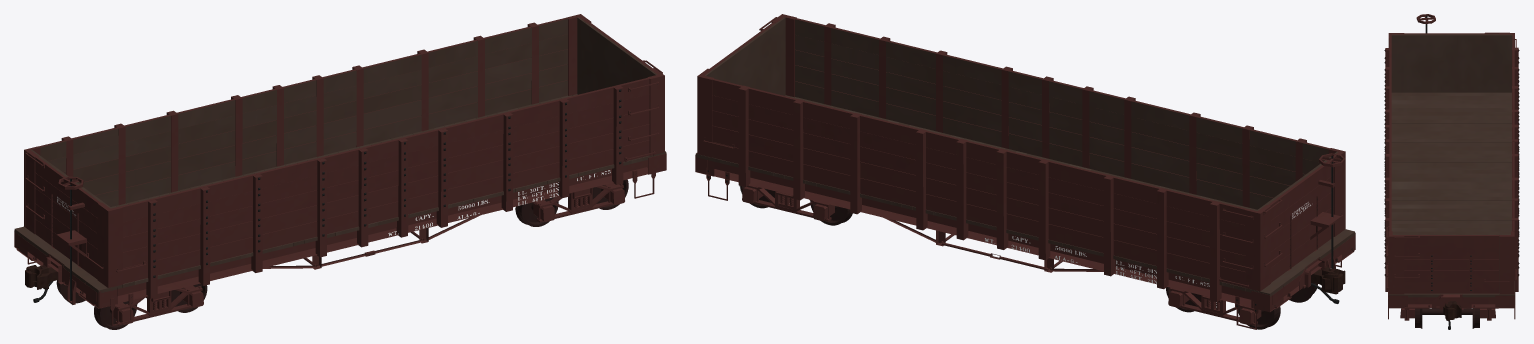
Rendered from drgw_1000class_gondola.obj.
3 views of the same model, side by side, from view 1: azimuth 30°, elevation 25°; view 2: azimuth 150°, elevation 25°; view 3: azimuth 270°, elevation 25° (orthographic). The views are drawn at different scales.
Visible parts, largest first — view 1: SHELL_Cube.334, Floor.013_Cube.021, Cube.010_Cube.297, FRAME_Cube.060, FRAME.001_Cube.002, Cube.050_Cube.377, BOGEY_REAR_BOGEY_REAR_Cube.016, BOGEY_FRONT_BOGEY_FRONT_Cube.003, Cube.028_Cube.033, Bolts.005_Cube.353, BOGEY_FRONT_WHEEL_1_BOGEY_FRONT_WHEEL_1_Cube.005, Coupler_Front.001_Cube.101 (+2 smaller); view 2: SHELL_Cube.334, Floor.013_Cube.021, Cube.010_Cube.297, FRAME_Cube.060, FRAME.001_Cube.002, Cube.050_Cube.377, BOGEY_REAR_BOGEY_REAR_Cube.016, BOGEY_FRONT_BOGEY_FRONT_Cube.003, Cube.028_Cube.033, BOGEY_FRONT_WHEEL_1_BOGEY_FRONT_WHEEL_1_Cube.005, Coupler_Front.001_Cube.101, lettering.000_FRAME.002_Cube.008; view 3: Floor.013_Cube.021, SHELL_Cube.334, Cube.010_Cube.297, Cube.050_Cube.377, Bolts.005_Cube.353, FRAME_Cube.060, Cube.028_Cube.033, BOGEY_REAR_WHEEL_2_BOGEY_REAR_WHEEL_2_Cube.022, FRAME.001_Cube.002, BOGEY_REAR_BOGEY_REAR_Cube.016, Coupler_Front_Cube.000, Cube.189_Cube.215.
Part boxes in pixels (bbox=[...]): SHELL_Cube.334: bbox=[35, 18, 652, 298]; Floor.013_Cube.021: bbox=[14, 17, 666, 293]; Cube.010_Cube.297: bbox=[24, 14, 664, 287]; FRAME_Cube.060: bbox=[15, 167, 647, 306]; FRAME.001_Cube.002: bbox=[17, 160, 647, 301]; Cube.050_Cube.377: bbox=[16, 60, 662, 325]; BOGEY_REAR_BOGEY_REAR_Cube.016: bbox=[533, 183, 624, 222]; BOGEY_FRONT_BOGEY_FRONT_Cube.003: bbox=[113, 285, 203, 325]; Cube.028_Cube.033: bbox=[14, 153, 666, 308]; Bolts.005_Cube.353: bbox=[52, 89, 621, 277]; BOGEY_FRONT_WHEEL_1_BOGEY_FRONT_WHEEL_1_Cube.005: bbox=[56, 280, 137, 329]; Coupler_Front.001_Cube.101: bbox=[25, 265, 58, 289]; SHELL_Cube.334: bbox=[709, 18, 1333, 302]; Floor.013_Cube.021: bbox=[695, 17, 1354, 296]; Cube.010_Cube.297: bbox=[697, 14, 1345, 291]; FRAME_Cube.060: bbox=[697, 160, 1355, 311]; FRAME.001_Cube.002: bbox=[714, 162, 1352, 304]; Cube.050_Cube.377: bbox=[703, 17, 1354, 329]; BOGEY_REAR_BOGEY_REAR_Cube.016: bbox=[742, 185, 834, 221]; BOGEY_FRONT_BOGEY_FRONT_Cube.003: bbox=[1168, 287, 1261, 325]; Cube.028_Cube.033: bbox=[695, 155, 1355, 312]; BOGEY_FRONT_WHEEL_1_BOGEY_FRONT_WHEEL_1_Cube.005: bbox=[1238, 282, 1317, 329]; Coupler_Front.001_Cube.101: bbox=[1311, 267, 1345, 294]; lettering.000_FRAME.002_Cube.008: bbox=[985, 236, 1209, 286]; Floor.013_Cube.021: bbox=[1388, 34, 1514, 297]; SHELL_Cube.334: bbox=[1385, 33, 1518, 293]; Cube.010_Cube.297: bbox=[1388, 33, 1514, 294]; Cube.050_Cube.377: bbox=[1386, 32, 1516, 319]; Bolts.005_Cube.353: bbox=[1384, 49, 1519, 290]; FRAME_Cube.060: bbox=[1408, 294, 1495, 309]; Cube.028_Cube.033: bbox=[1388, 291, 1514, 308]; BOGEY_REAR_WHEEL_2_BOGEY_REAR_WHEEL_2_Cube.022: bbox=[1415, 308, 1479, 328]; FRAME.001_Cube.002: bbox=[1408, 297, 1495, 304]; BOGEY_REAR_BOGEY_REAR_Cube.016: bbox=[1400, 308, 1495, 320]; Coupler_Front_Cube.000: bbox=[1443, 301, 1461, 320]; Cube.189_Cube.215: bbox=[1416, 14, 1435, 23].
Bounding box in the file's own units: 27.39 × 6.53 × 6.84.
